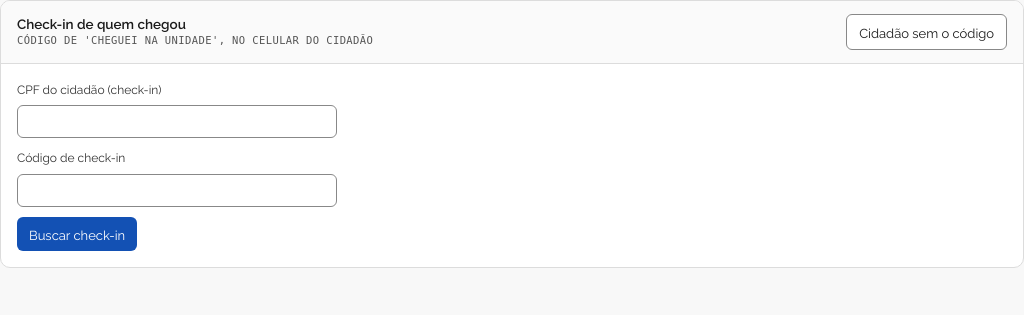
CheckIn › busca exige CPF válido e código de 6 dígitos
In the field labelled "CPF do cidadão (check-in)": (177, 122) left=17, top=105, right=337, bottom=138, type "11111111111"
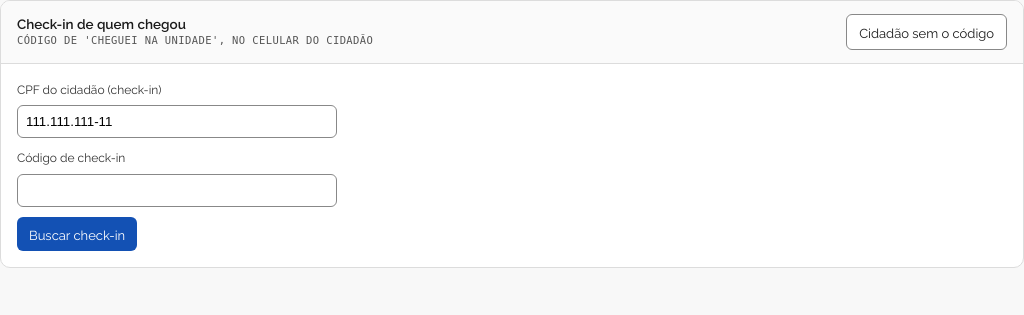
In the field labelled "Código de check-in": (177, 190) left=17, top=174, right=337, bottom=207, type "123456"
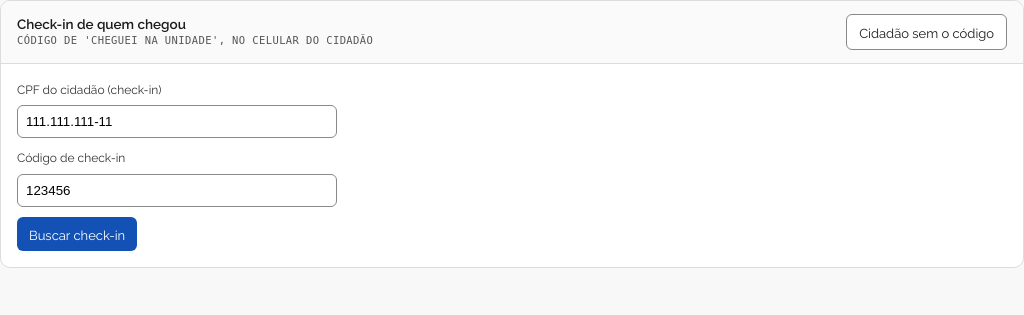
Click the button "Buscar check-in": click(77, 234) left=17, top=217, right=137, bottom=251
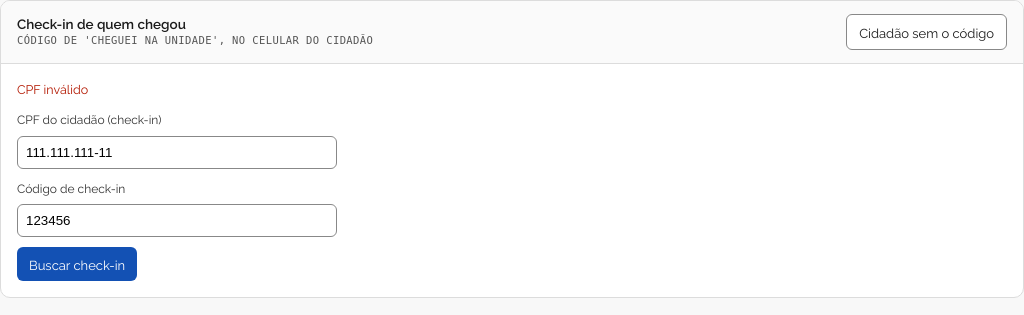
Expected: the text "CPF inválido" is shown, left=17, top=80, right=88, bottom=97
Replace the text in the field labelled "CPF do cidadão (check-in)" with "52998224725": (177, 152) left=17, top=136, right=337, bottom=168
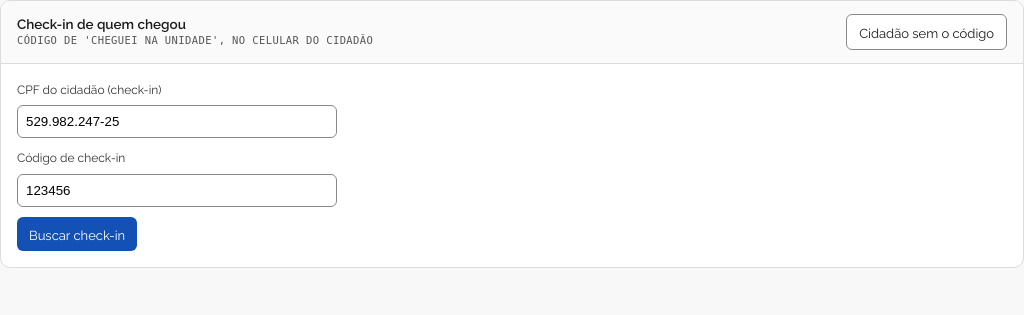
Replace the text in the field labelled "Código de check-in" with "123": (177, 190) left=17, top=174, right=337, bottom=207
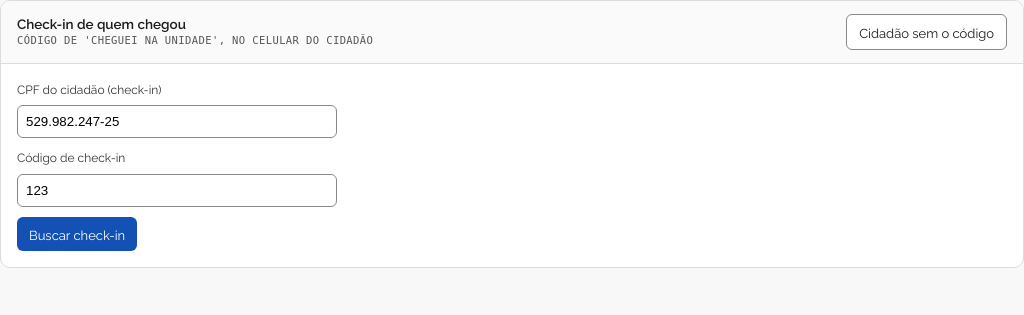
Click the button "Buscar check-in": click(77, 234) left=17, top=217, right=137, bottom=251
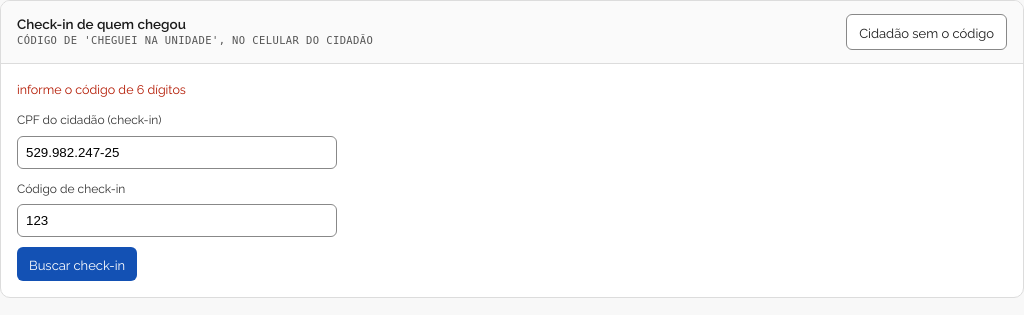
Expected: the text "informe o código de 6 dígitos" is shown, left=17, top=80, right=186, bottom=97
